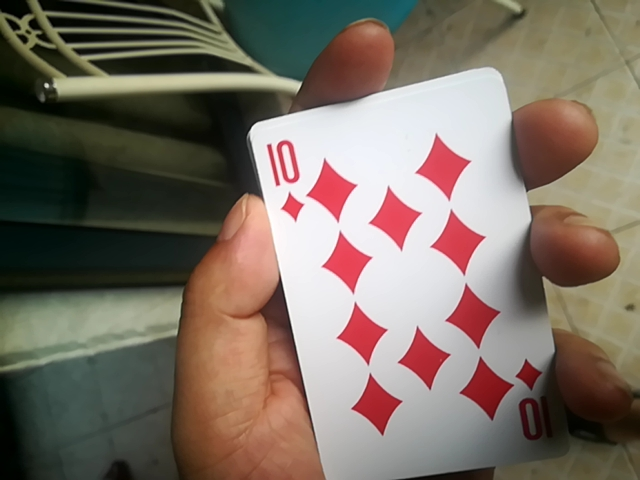fk 10: (250, 59, 573, 480)
